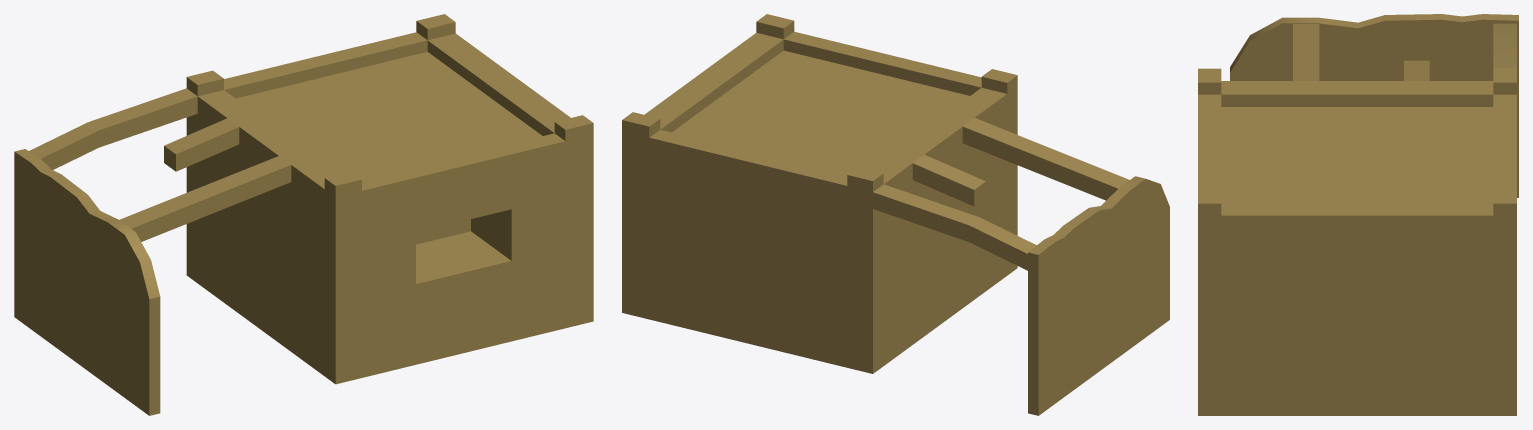
File: desertRuin3.fbx
3 renders of one model, left to right at view 1: azimuth 30°, elevation 25°; view 2: azimuth 150°, elevation 25°; view 3: azimuth 270°, elevation 25°, orthographic. The views are drawn at different scales.
Parts seen in each view (by area): view 1: desertRuin3:desertHouse1; view 2: desertRuin3:desertHouse1; view 3: desertRuin3:desertHouse1.
Boxes of the visible parts, x1,y1,x2,y2 form: desertRuin3:desertHouse1: [14, 14, 593, 415]; desertRuin3:desertHouse1: [622, 14, 1169, 415]; desertRuin3:desertHouse1: [1198, 14, 1518, 415].
Bounding box in the file's own units: 39.05 × 17.3 × 23.61.
